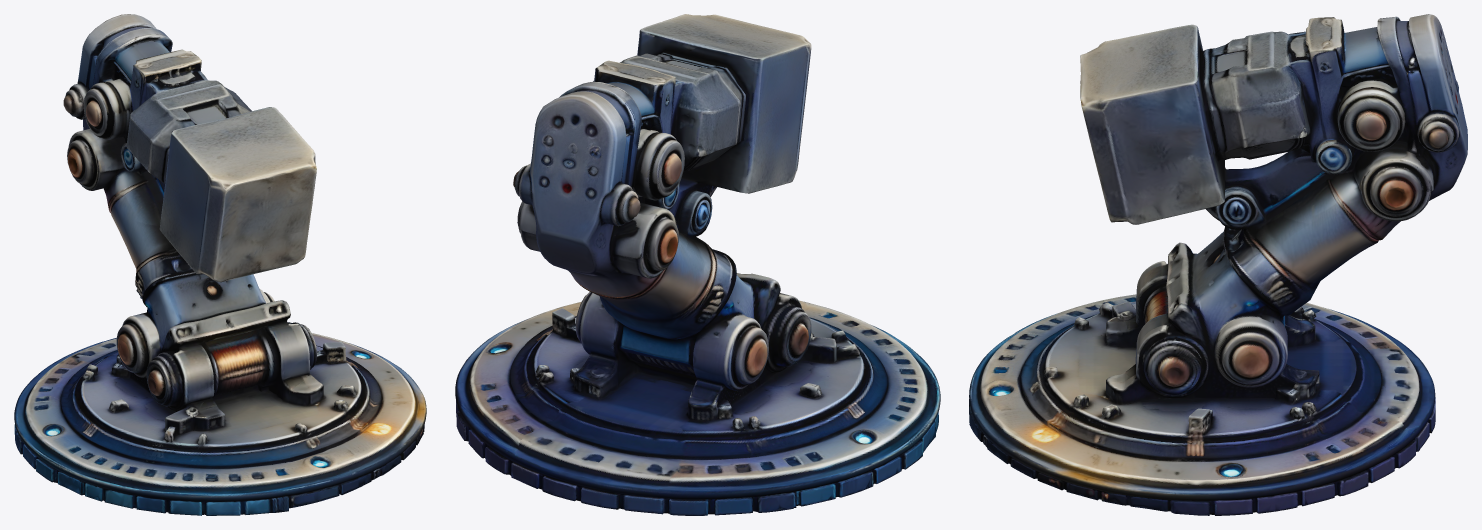
File: hammerupdated.fbx
The picture shows the model from 3 angles, left to right: view 1: azimuth 30°, elevation 25°; view 2: azimuth 150°, elevation 25°; view 3: azimuth 270°, elevation 25°; orthographic projection. The views are drawn at different scales.
Parts seen in each view (by area): view 1: tripo_node_bf70e9b4; view 2: tripo_node_bf70e9b4; view 3: tripo_node_bf70e9b4.
Part boxes in pixels (x1=…): tripo_node_bf70e9b4: x1=14, y1=14, x2=426, y2=515; tripo_node_bf70e9b4: x1=455, y1=14, x2=940, y2=515; tripo_node_bf70e9b4: x1=969, y1=14, x2=1467, y2=515.
Size of the model in its own units: 0.9688 by 0.8802 by 1.
Materials: 1 (1 with a texture image).
